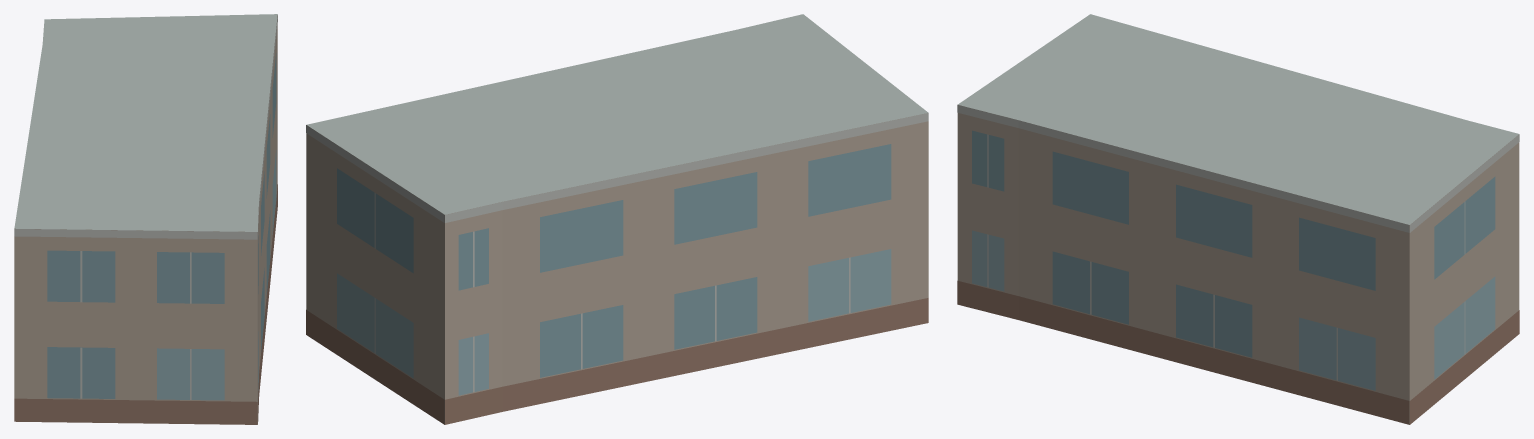
Rendered from survey-upis-32666361.glb.
3 views of the same model, side by side, from view 1: azimuth 30°, elevation 25°; view 2: azimuth 150°, elevation 25°; view 3: azimuth 270°, elevation 25° (orthographic). The views are drawn at different scales.
Parts seen in each view (by area): view 1: survey-upis-32666361.tmp; view 2: survey-upis-32666361.tmp; view 3: survey-upis-32666361.tmp.
Boxes of the visible parts, left/top/right/bottom form: survey-upis-32666361.tmp: left=14, top=14, right=277, bottom=424; survey-upis-32666361.tmp: left=306, top=14, right=928, bottom=424; survey-upis-32666361.tmp: left=957, top=14, right=1519, bottom=424.
Size of the model in its own units: 13.83 by 6.1 by 15.56.
